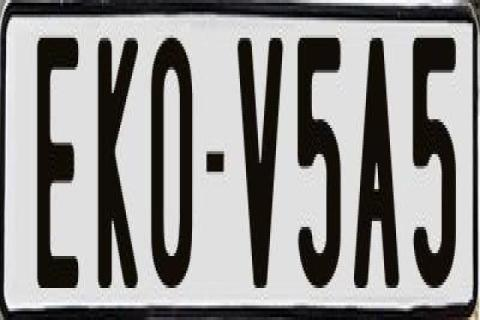0: (294, 35, 344, 303), (150, 35, 192, 299), (410, 38, 452, 297)
A: (351, 29, 398, 285)
E: (36, 38, 80, 294)
K: (95, 35, 135, 294)
V: (234, 29, 284, 291)
